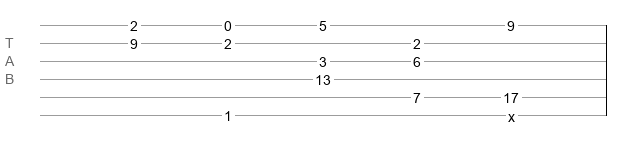0: (224, 18, 232, 28)
1: (224, 108, 232, 118)
13: (315, 72, 331, 82)
17: (503, 90, 519, 100)
2: (130, 18, 138, 28), (224, 36, 232, 46), (413, 36, 421, 46)
3: (319, 54, 327, 64)
5: (319, 18, 327, 28)
6: (413, 54, 421, 64)
7: (413, 90, 421, 100)
9: (130, 36, 138, 46), (507, 18, 515, 28)
x: (508, 109, 515, 117)
